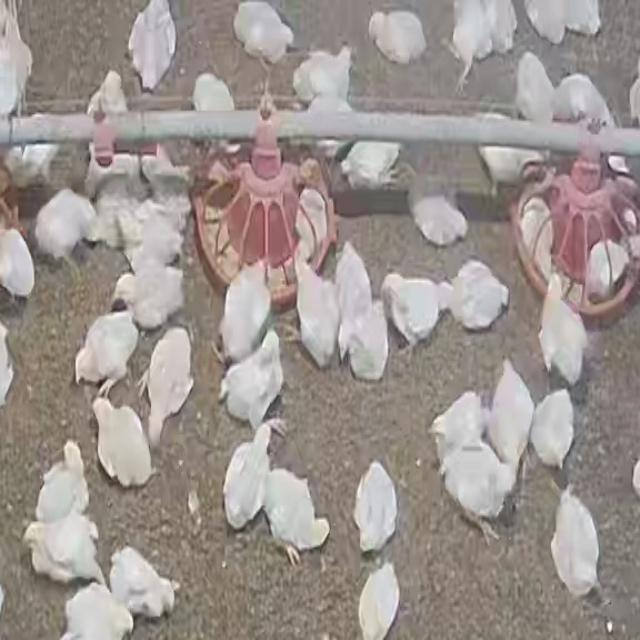chicken: (214, 330, 300, 430), (136, 323, 200, 451), (438, 439, 514, 545), (85, 393, 159, 491), (266, 459, 334, 564), (212, 258, 274, 365), (382, 269, 452, 363), (532, 274, 591, 384), (402, 157, 472, 245), (72, 308, 140, 397), (483, 352, 535, 468), (105, 543, 182, 621), (220, 425, 273, 531), (352, 457, 400, 559), (116, 260, 186, 328), (128, 0, 178, 95), (36, 435, 91, 521), (452, 257, 512, 335), (228, 0, 297, 67), (530, 387, 583, 473), (364, 6, 431, 66), (291, 44, 357, 102), (517, 198, 561, 282), (297, 184, 331, 264)
